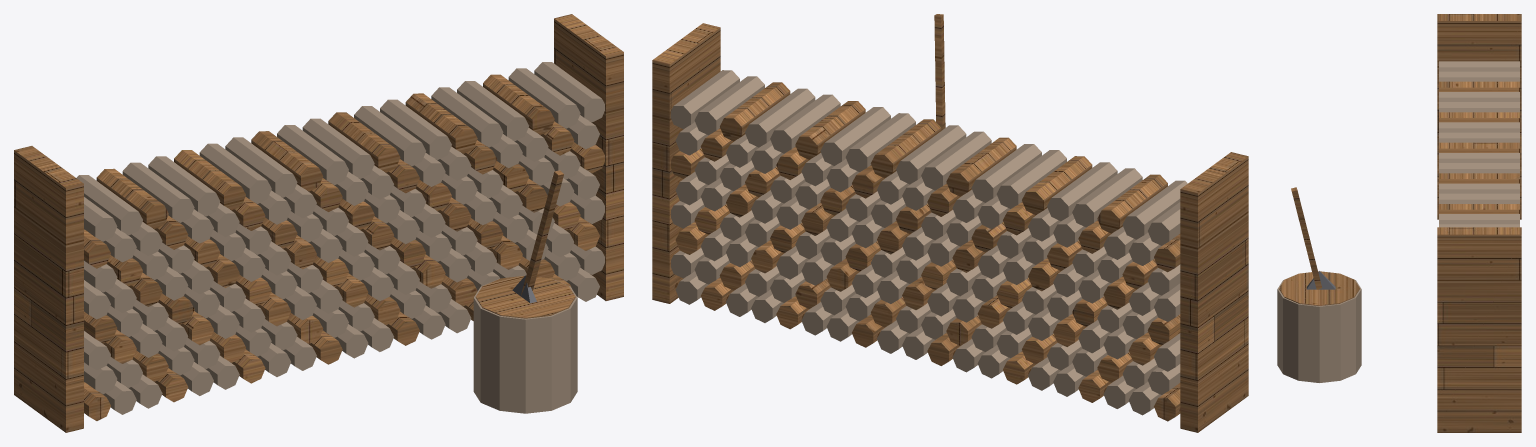
Rendered from woodpile.glb.
3 views of the same model, side by side, from view 1: azimuth 30°, elevation 25°; view 2: azimuth 150°, elevation 25°; view 3: azimuth 270°, elevation 25° (orthographic). The views are drawn at different scales.
Visible parts, largest first — view 1: woodpile_bark, woodpile_wood; view 2: woodpile_bark, woodpile_wood; view 3: woodpile_wood, woodpile_bark, woodpile_iron.
Part boxes in pixels (x1=…): woodpile_bark: x1=76, y1=62, x2=604, y2=414; woodpile_wood: x1=14, y1=14, x2=623, y2=432; woodpile_bark: x1=671, y1=70, x2=1187, y2=415; woodpile_wood: x1=652, y1=14, x2=1248, y2=432; woodpile_wood: x1=1279, y1=14, x2=1521, y2=432; woodpile_bark: x1=1277, y1=61, x2=1519, y2=382; woodpile_iron: x1=1306, y1=271, x2=1335, y2=289.
Bounding box in the file's own units: 3.1 × 1.3 × 1.45.
3 materials, 1 textured.
